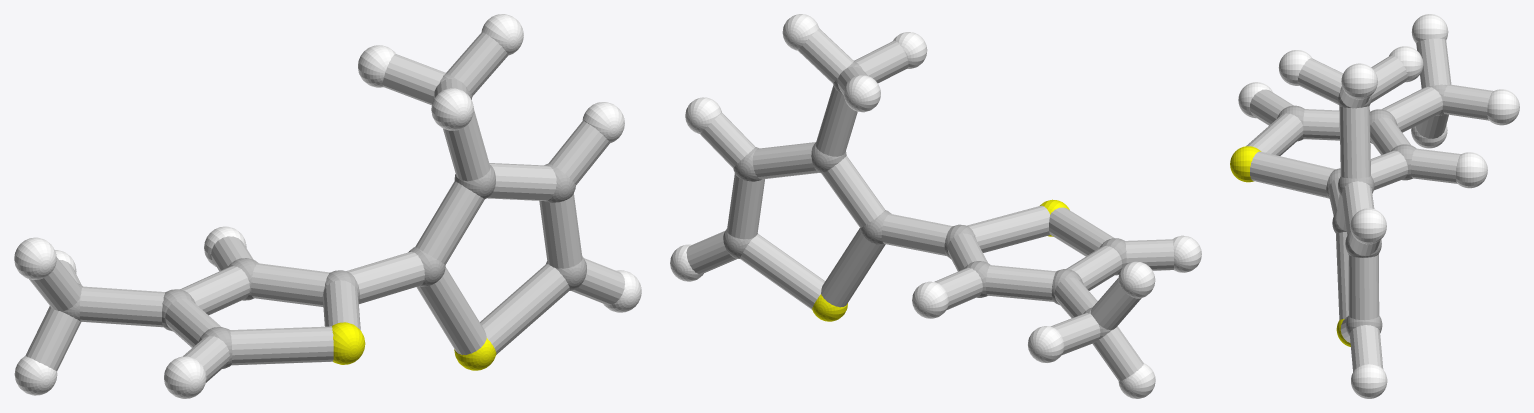
Rendered from color.glb.
3 views of the same model, side by side, from view 1: azimuth 30°, elevation 25°; view 2: azimuth 150°, elevation 25°; view 3: azimuth 270°, elevation 25° (orthographic). The views are drawn at different scales.
Visible parts, largest first — view 1: grp7965, grp3621, grp1, grp7241; view 2: grp7965, grp3621, grp1, grp7241; view 3: grp7965, grp3621, grp1, grp7241.
Boxes of the visible parts, <box> form: grp7965: <box>25,32,624,382</box>; grp3621: <box>14,14,641,398</box>; grp1: <box>61,73,586,368</box>; grp7241: <box>332,322,496,370</box>; grp7965: <box>686,28,1174,381</box>; grp3621: <box>670,14,1201,398</box>; grp1: <box>723,61,1126,338</box>; grp7241: <box>812,199,1069,321</box>; grp7965: <box>1246,38,1493,371</box>; grp3621: <box>1238,14,1519,398</box>; grp1: <box>1277,84,1447,335</box>; grp7241: <box>1230,146,1350,346</box>.
Size of the model in its own units: 9.5 by 5.32 by 4.77.
